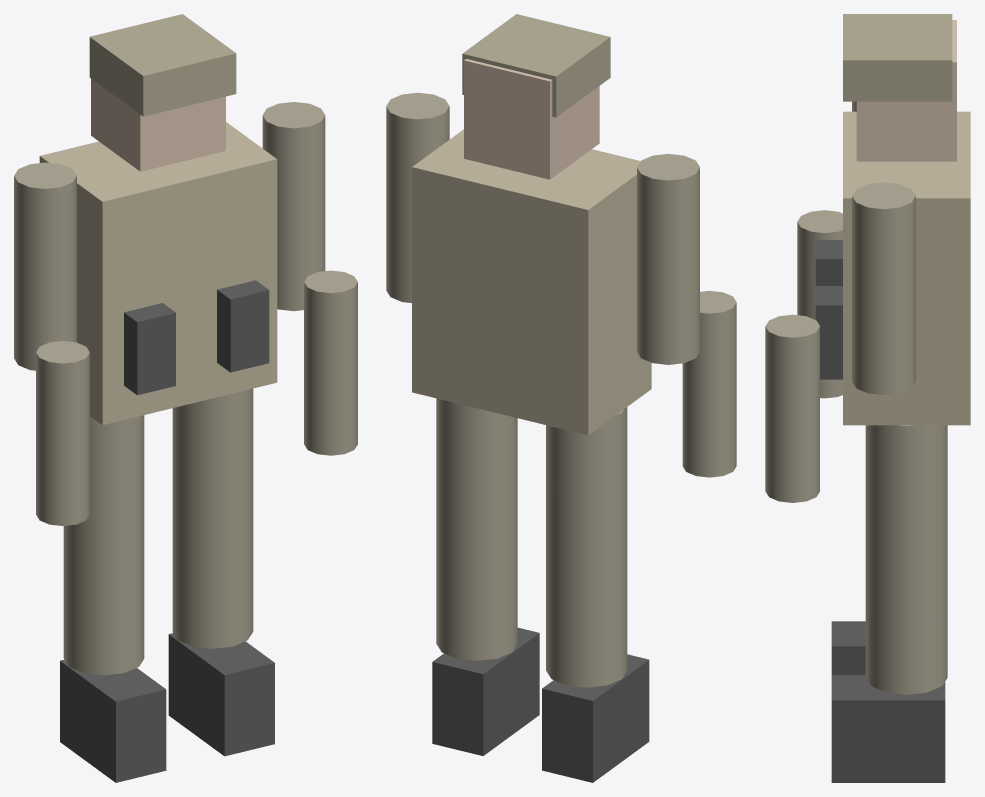
Rendered from soldier_enemy.glb.
The picture shows the model from 3 angles, left to right: view 1: azimuth 30°, elevation 25°; view 2: azimuth 150°, elevation 25°; view 3: azimuth 270°, elevation 25°; orthographic projection.
Visible parts, largest first — view 1: Torso, LegR, LegL, UpperArmL, Headgear, BootR, BootL, UpperArmR, ForearmR, ForearmL, Head, PouchR (+1 smaller); view 2: Torso, LegL, LegR, UpperArmL, Head, BootR, BootL, ForearmL, Headgear, UpperArmR; view 3: Torso, LegR, UpperArmR, BootR, ForearmR, Headgear, Head, ForearmL, PouchR, BootL, PouchL.
Boxes of the visible parts, x1,y1,x2,y2 form: Torso: (39,122,277,425); LegR: (172,388,253,648); LegL: (63,415,144,675); UpperArmL: (14,162,76,370); Headgear: (89,14,236,116); BootR: (168,633,274,756); BootL: (60,659,166,782); UpperArmR: (262,102,325,311); ForearmR: (304,270,357,455); ForearmL: (36,341,89,525); Head: (91,78,225,171); PouchR: (217,280,269,372); Torso: (412,129,651,435); LegL: (546,407,627,687); LegR: (436,398,517,660); UpperArmL: (637,154,699,364); Head: (464,59,599,179); BootR: (432,627,539,755); BootL: (542,654,649,782); ForearmL: (682,290,736,477); Headgear: (462,14,610,117); UpperArmR: (386,92,449,302); Torso: (843,111,970,425); LegR: (865,425,947,694); UpperArmR: (852,182,915,394); BootR: (831,675,945,782); ForearmR: (765,314,819,502); Headgear: (843,14,952,101); Head: (856,20,956,161); ForearmL: (797,210,842,398); PouchR: (815,286,842,379); BootL: (831,621,865,675); PouchL: (815,240,842,285).
Size of the model in its own units: 0.8 by 1.71 by 0.45.
